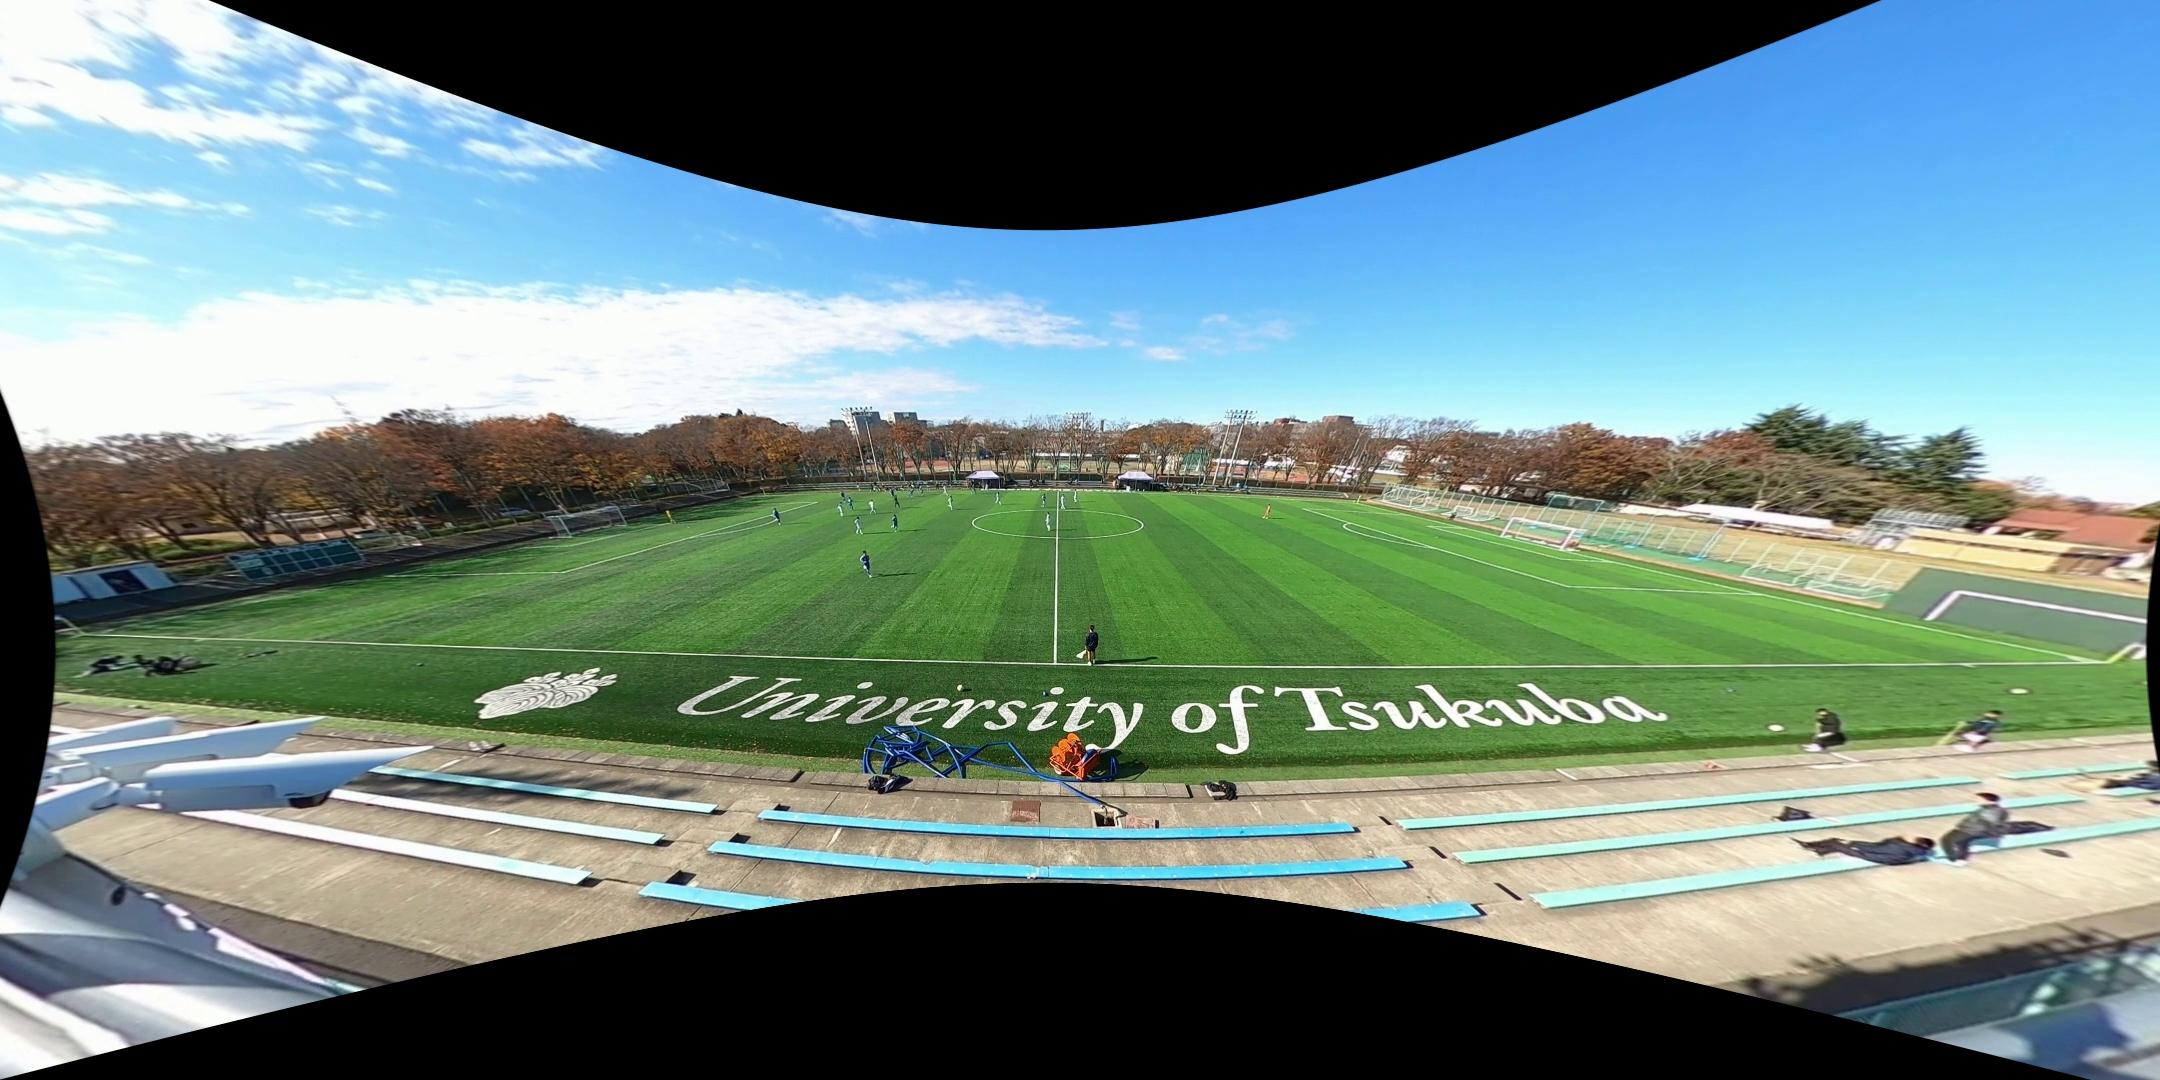person: (1078, 624, 1099, 665), (859, 550, 874, 576), (853, 516, 865, 536), (664, 508, 677, 524), (772, 507, 783, 525), (890, 514, 899, 534), (892, 495, 902, 511), (1262, 504, 1272, 520), (1044, 511, 1052, 531), (1040, 491, 1048, 509), (1059, 493, 1067, 510), (995, 491, 1004, 506), (867, 499, 876, 514), (836, 503, 845, 518), (1071, 489, 1080, 503), (946, 495, 954, 510), (941, 485, 950, 498), (839, 489, 847, 503), (846, 497, 854, 509), (889, 487, 897, 499), (970, 482, 977, 495), (918, 483, 925, 494), (983, 483, 990, 494), (868, 482, 874, 493)
sports ball: (980, 487, 984, 492)
